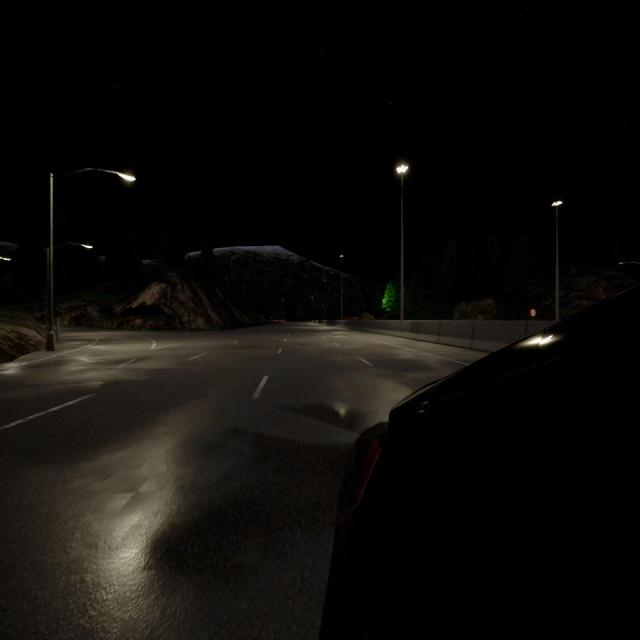Traffic_Signs: (530, 309, 536, 316)
Vehicle: (320, 284, 640, 637)
